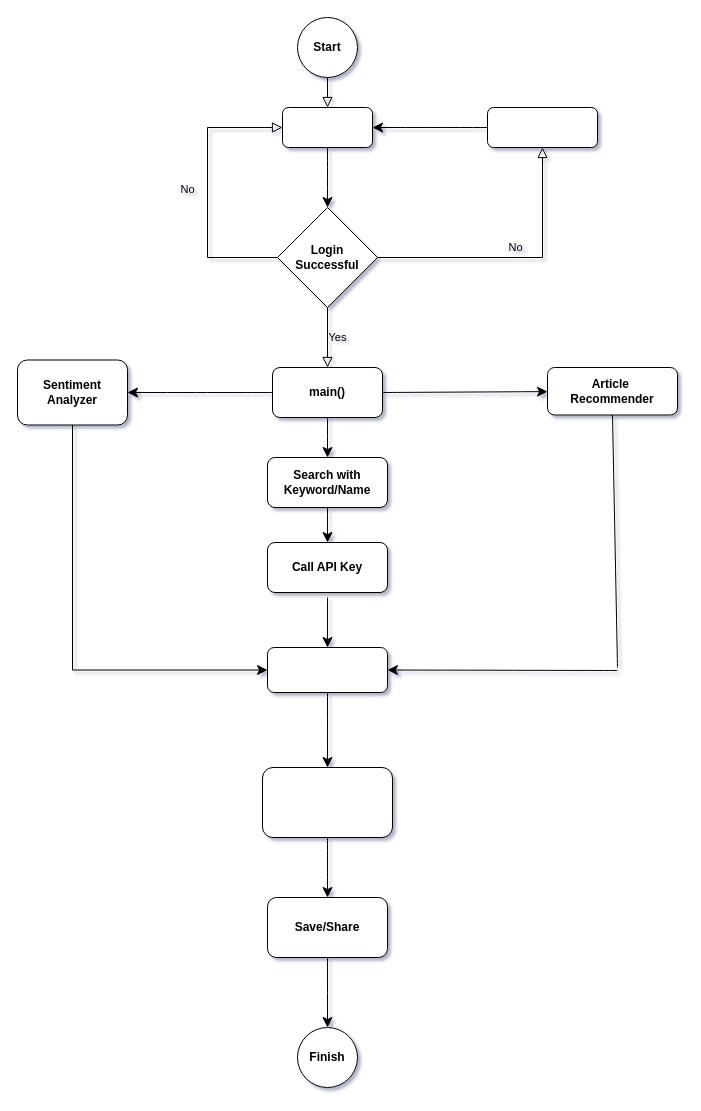
Image size: 701x1111. Some labels were removed from this diagram. The shapes that lost their labels are listed below. From the top down, each one's box as (x1, y1, x2, y2) in pixels, then its label:
(282, 106, 372, 148): Login
(486, 106, 598, 148): Create Account
(266, 646, 388, 692): Fetchnews()
(262, 766, 392, 838): Display Recommended Articles
